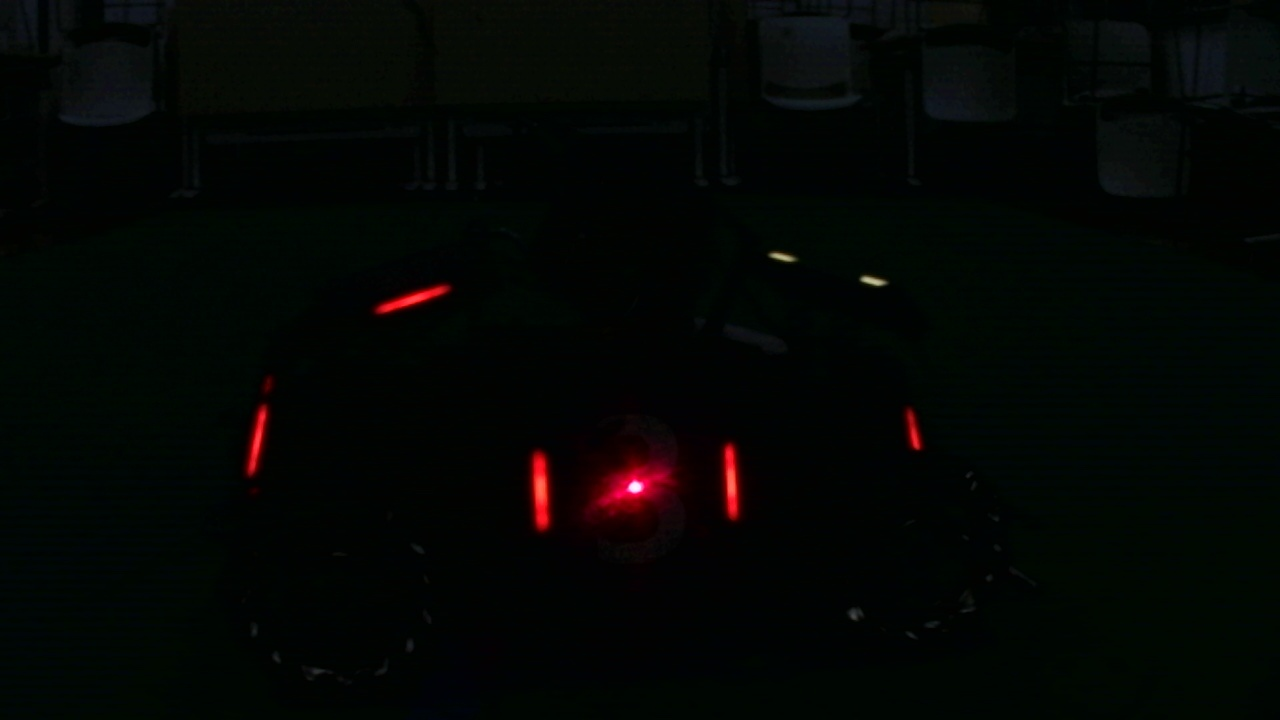lamp: (241, 398, 270, 478), (719, 433, 743, 523), (532, 443, 549, 534)
notpair1: (244, 399, 551, 539), (722, 400, 926, 525)
pair1: (531, 437, 743, 535)
